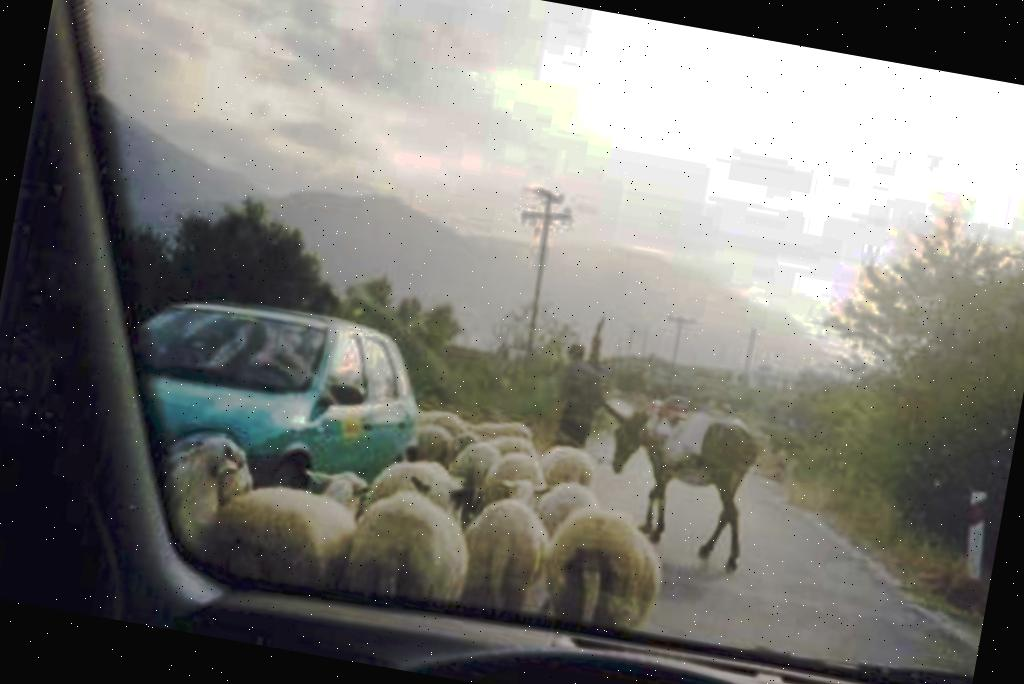Sheep: (218, 451, 377, 595), (530, 492, 676, 633), (345, 458, 480, 610), (445, 468, 568, 618), (146, 431, 264, 573)
